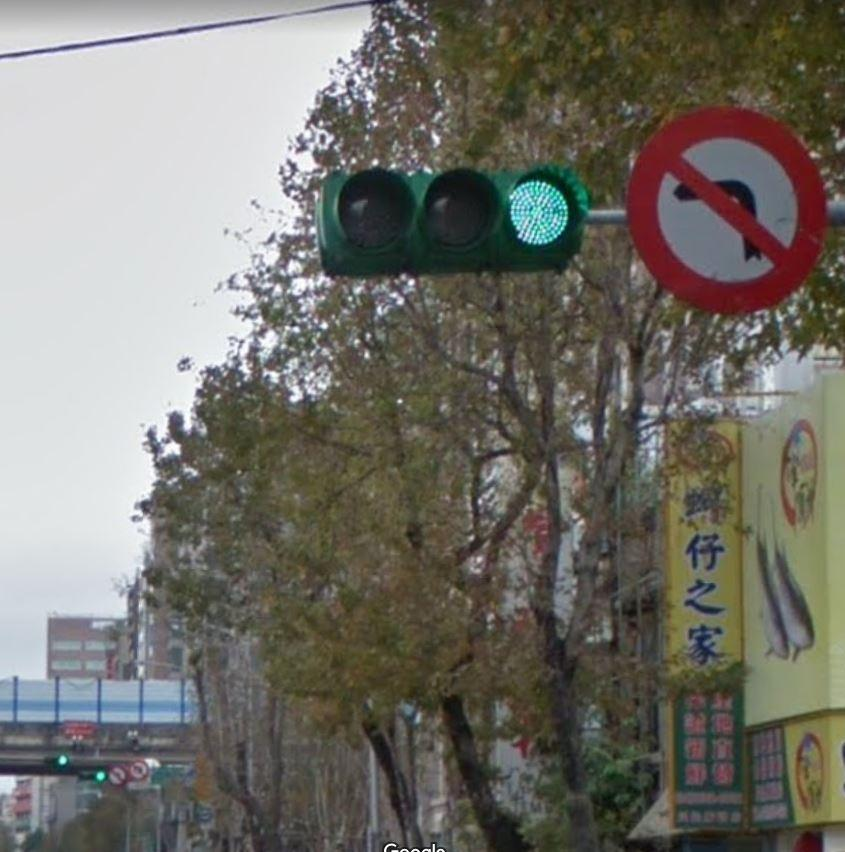green_traffic_light: (318, 161, 586, 273)
